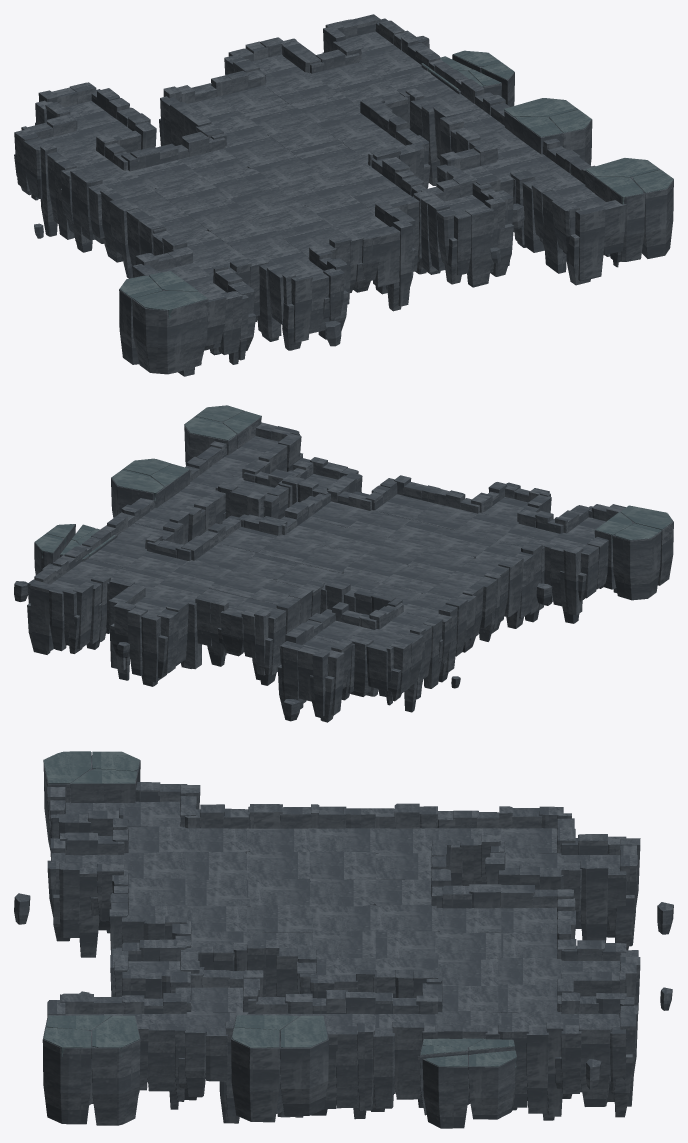
Rendered from chapter2_stage10_geology.glb.
3 views of the same model, one above another, from view 1: azimuth 30°, elevation 25°; view 2: azimuth 150°, elevation 25°; view 3: azimuth 270°, elevation 25° (orthographic). The views are drawn at different scales.
Visible parts, largest first — view 1: stage10_continuous_rock_strata; view 2: stage10_continuous_rock_strata; view 3: stage10_continuous_rock_strata.
Part boxes in pixels (x1=…): stage10_continuous_rock_strata: x1=14, y1=14, x2=673, y2=376; stage10_continuous_rock_strata: x1=14, y1=405, x2=673, y2=722; stage10_continuous_rock_strata: x1=14, y1=751, x2=673, y2=1128.
Bounding box in the file's own units: 11.27 × 1.95 × 10.51.
Materials: 2 (2 with a texture image).
